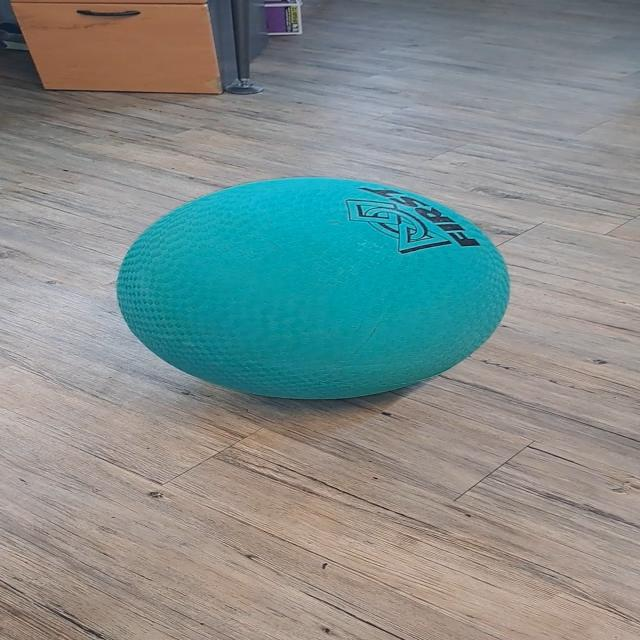ALGAE: (113, 175, 512, 401)
